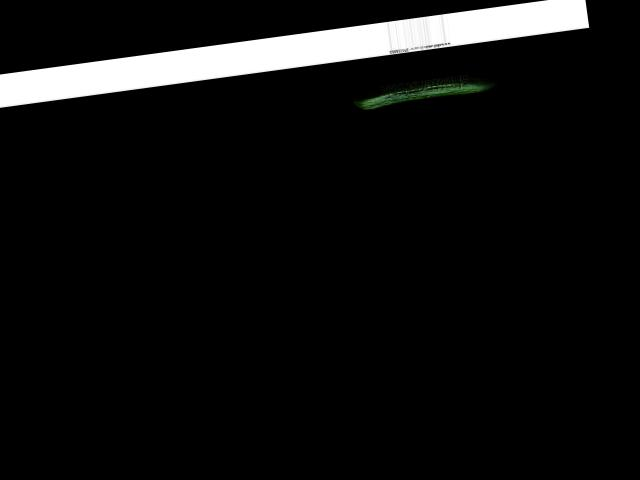cucumber: (350, 69, 499, 110)
